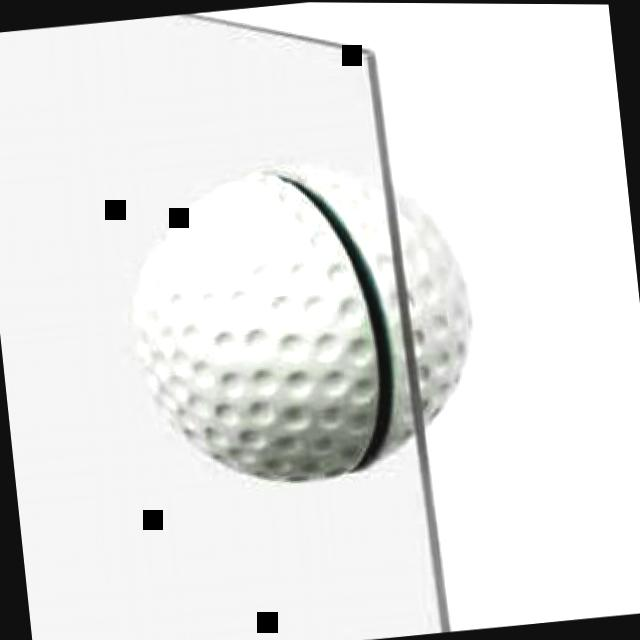golf ball: (116, 146, 498, 501)
